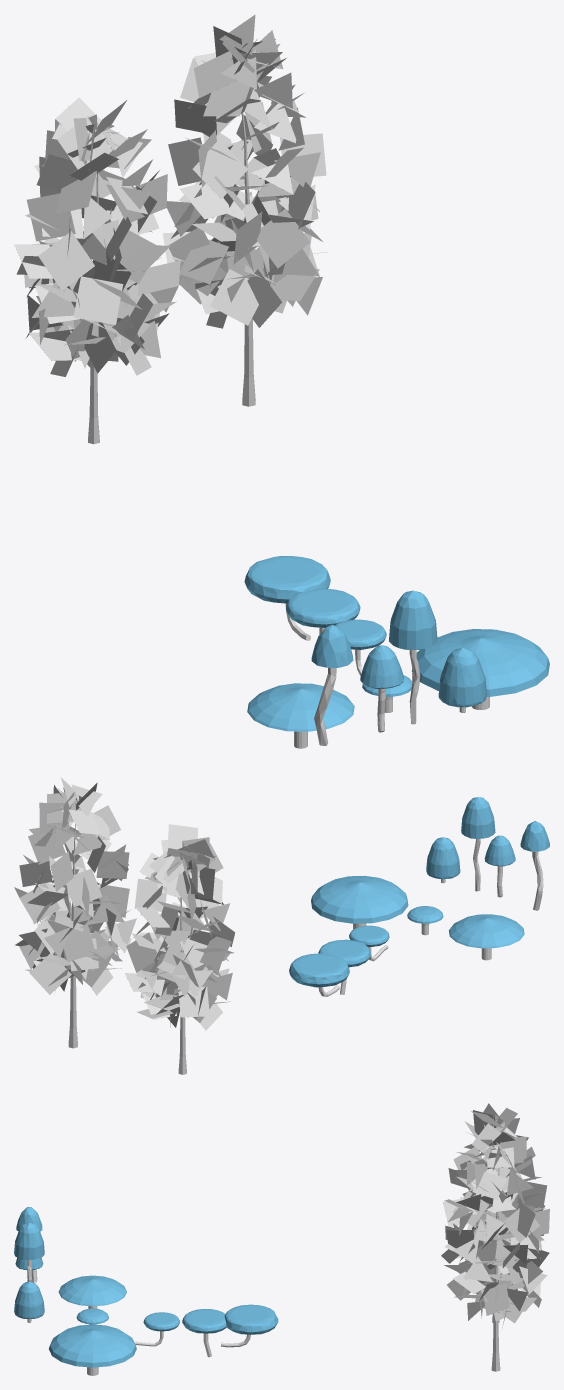
Rendered from Flora.fbx.
The picture shows the model from 3 angles, top to bottom: view 1: azimuth 30°, elevation 25°; view 2: azimuth 150°, elevation 25°; view 3: azimuth 270°, elevation 25°; orthographic projection. The views are drawn at different scales.
Visible parts, largest first — view 1: Leaves 1, Leaves 2, Cave Fungus 2, Cave Fungus 3, Glistening Mushroom 2, Night Cap 4, Night Cap 3, Glistening Mushroom 1, Night Cap 2, Night Cap 1, Glistening Mushroom 3, Fir 1; view 2: Leaves 1, Leaves 2, Cave Fungus 2, Cave Fungus 3, Glistening Mushroom 2, Night Cap 4, Night Cap 3, Night Cap 2, Glistening Mushroom 1, Night Cap 1, Glistening Mushroom 3, Fir 1 (+2 smaller); view 3: Leaves 1, Cave Fungus 2, Leaves 2, Cave Fungus 3, Glistening Mushroom 2, Glistening Mushroom 1, Night Cap 4, Night Cap 3, Glistening Mushroom 3, Fir 1, Night Cap 2, Cave Fungus 1.
Part boxes in pixels (box(x1,y1,x2,y2)): Leaves 1: box(162, 14, 326, 328); Leaves 2: box(14, 97, 183, 376); Cave Fungus 2: box(411, 629, 549, 709); Cave Fungus 3: box(247, 683, 354, 748); Glistening Mushroom 2: box(244, 556, 330, 640); Night Cap 4: box(389, 590, 437, 724); Night Cap 3: box(438, 648, 486, 712); Glistening Mushroom 1: box(286, 588, 360, 634); Night Cap 2: box(311, 624, 353, 745); Night Cap 1: box(360, 645, 403, 732); Glistening Mushroom 3: box(335, 619, 386, 675); Fir 1: box(241, 113, 255, 406); Leaves 1: box(14, 777, 136, 995); Leaves 2: box(124, 824, 235, 1030); Cave Fungus 2: box(311, 875, 408, 929); Cave Fungus 3: box(449, 914, 524, 960); Glistening Mushroom 2: box(289, 953, 349, 996); Night Cap 4: box(461, 797, 495, 891); Night Cap 3: box(426, 837, 460, 883); Night Cap 2: box(520, 821, 549, 910); Glistening Mushroom 1: box(318, 939, 370, 994); Night Cap 1: box(484, 835, 515, 897); Glistening Mushroom 3: box(349, 925, 389, 961); Fir 1: box(68, 806, 77, 1048); Leaves 1: box(441, 1123, 549, 1328); Cave Fungus 2: box(49, 1324, 136, 1375); Leaves 2: box(443, 1103, 545, 1273); Cave Fungus 3: box(58, 1275, 126, 1308); Glistening Mushroom 2: box(221, 1304, 278, 1347); Glistening Mushroom 1: box(182, 1309, 226, 1357); Night Cap 4: box(14, 1222, 44, 1281); Night Cap 3: box(14, 1281, 44, 1322); Glistening Mushroom 3: box(134, 1312, 179, 1346); Fir 1: box(491, 1168, 500, 1371); Night Cap 2: box(16, 1207, 42, 1282); Cave Fungus 1: box(76, 1308, 108, 1324).
Size of the model in its own units: 6229 by 6736 by 11833.
